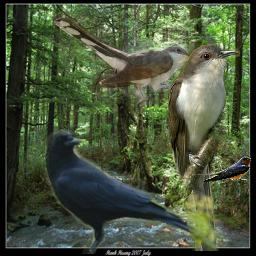Crow: (45, 128, 200, 254)
Cuckoo: (168, 37, 240, 251), (52, 11, 203, 108)
Swallow: (191, 156, 251, 182)
